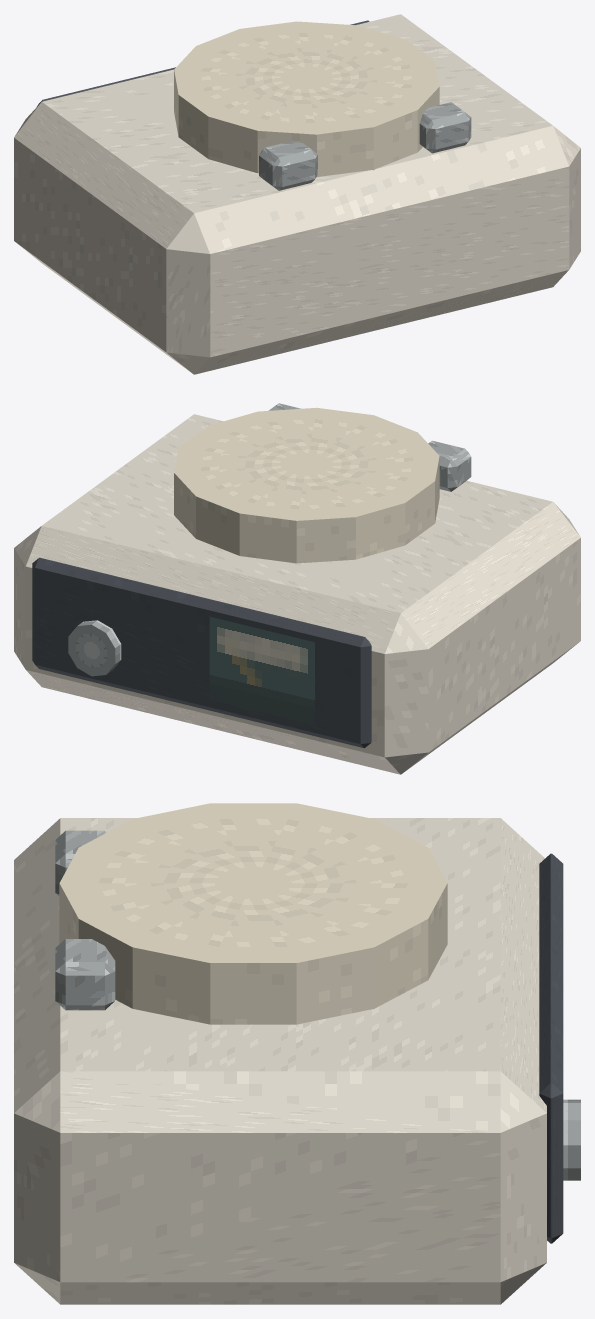
The model's file is microcentrifuge.glb.
3 views of the same model, one above another, from view 1: azimuth 30°, elevation 25°; view 2: azimuth 150°, elevation 25°; view 3: azimuth 270°, elevation 25° (orthographic). The views are drawn at different scales.
Parts seen in each view (by area): view 1: block_instrument housing, block_rotor lid, block_lid hinge (×2); view 2: block_instrument housing, block_rotor lid, block_instrument control panel, block_instrument readout, block_control knob, block_lid hinge; view 3: block_instrument housing, block_rotor lid, block_instrument control panel, block_lid hinge (×2), block_control knob.
Boxes of the visible parts, x1,y1,x2,y2 form: block_instrument housing: (14, 14, 580, 374); block_rotor lid: (174, 21, 439, 176); block_lid hinge (×2): (259, 102, 471, 190); block_instrument housing: (14, 414, 580, 774); block_rotor lid: (174, 407, 439, 563); block_instrument control panel: (32, 557, 371, 748); block_instrument readout: (209, 617, 314, 724); block_control knob: (68, 620, 121, 676); block_lid hinge: (428, 440, 471, 491); block_instrument housing: (14, 818, 546, 1304); block_rotor lid: (59, 803, 447, 1024); block_instrument control panel: (539, 853, 563, 1243); block_lid hinge (×2): (55, 830, 115, 1010); block_control knob: (563, 1099, 580, 1180).
Bounding box in the file's own units: 0.2175 × 0.1023 × 0.1782.
1 material, 1 textured.
